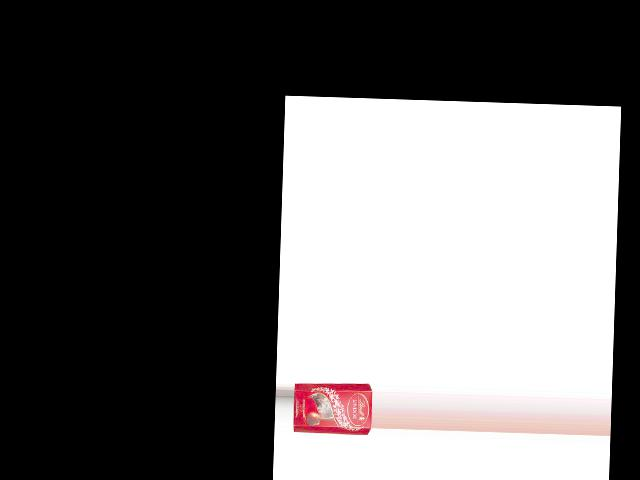chocolate: (292, 380, 372, 439)
